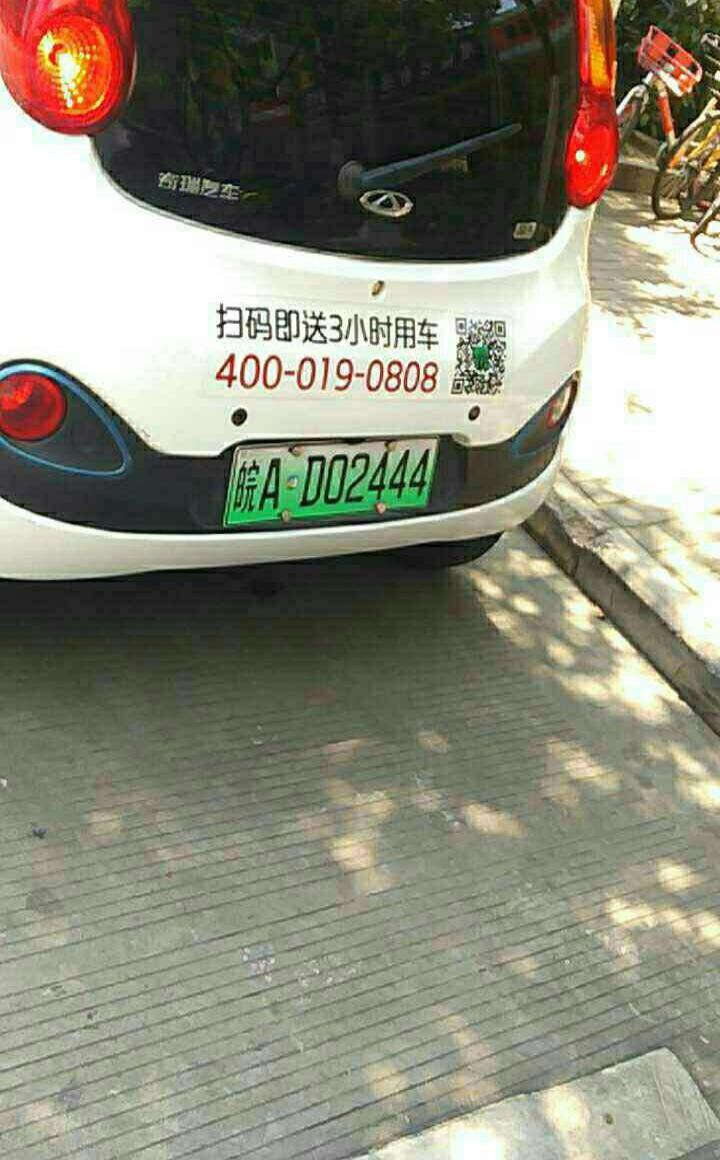car_id: (225, 437, 445, 523)
